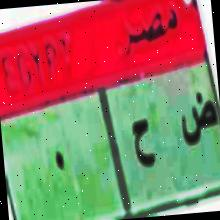0: (48, 143, 70, 176)
7aa: (131, 109, 159, 180)
daad: (177, 89, 219, 150)
